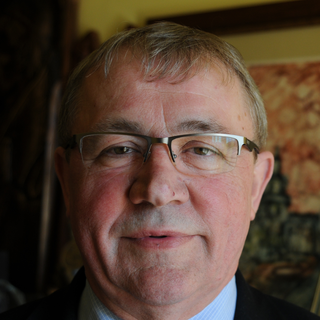eye: (176, 141, 226, 162), (97, 141, 143, 161)
